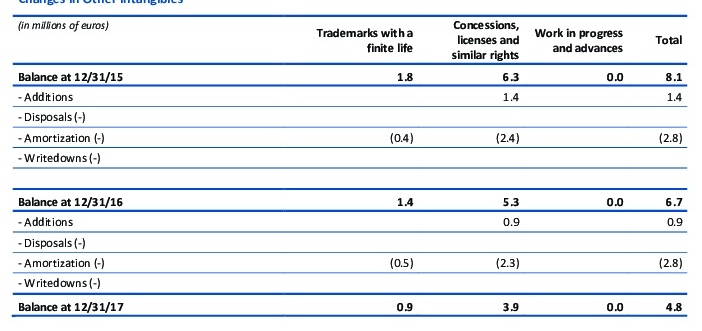table: (0, 0, 702, 331)
